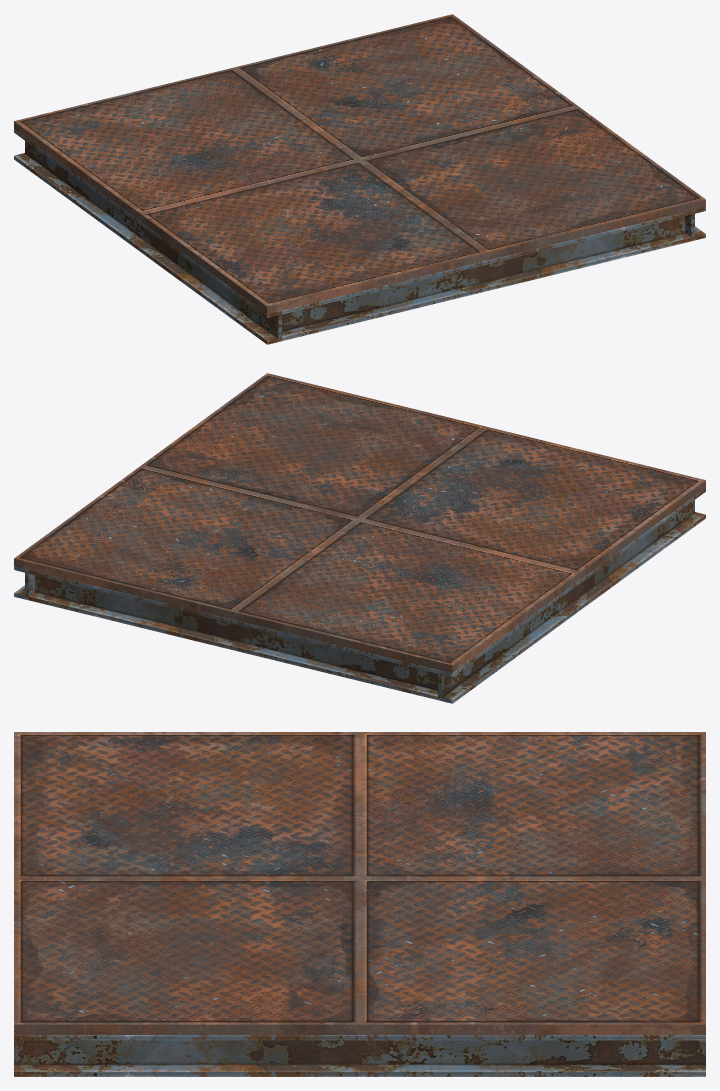
The model's file is platform_3x3m.fbx.
3 renders of one model, top to bottom at view 1: azimuth 30°, elevation 25°; view 2: azimuth 150°, elevation 25°; view 3: azimuth 270°, elevation 25°, orthographic. The views are drawn at different scales.
Visible parts, largest first — view 1: platform_3x3m; view 2: platform_3x3m; view 3: platform_3x3m.
Part boxes in pixels (left/top/right/bottom): platform_3x3m: left=14, top=14, right=705, bottom=344; platform_3x3m: left=14, top=373, right=705, bottom=703; platform_3x3m: left=14, top=732, right=705, bottom=1076.
Bounding box in the file's own units: 300 × 25 × 300.
